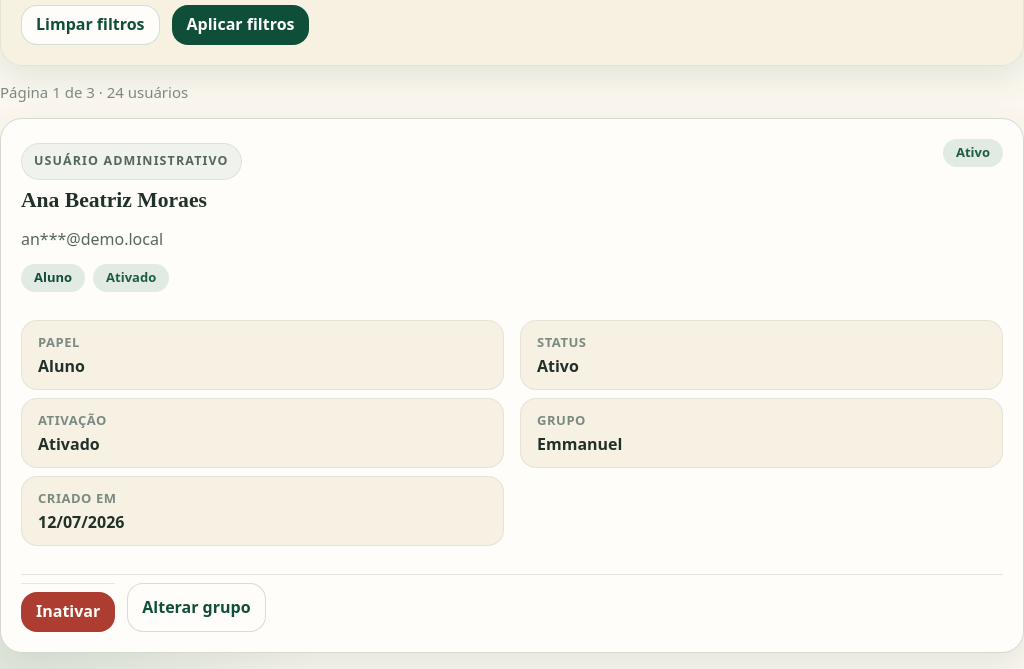
Test: AdminUsersPage status actions › não faz atualização otimista e sucesso recarrega a listagem
(page scrolled)
Expected: the heading "Ana Beatriz Moraes" is shown, [21, 188, 207, 212]
Click the button with aria-label "Inativar usuário Ana Beatriz Moraes". click: [68, 612]
box: [21, 592, 115, 632]
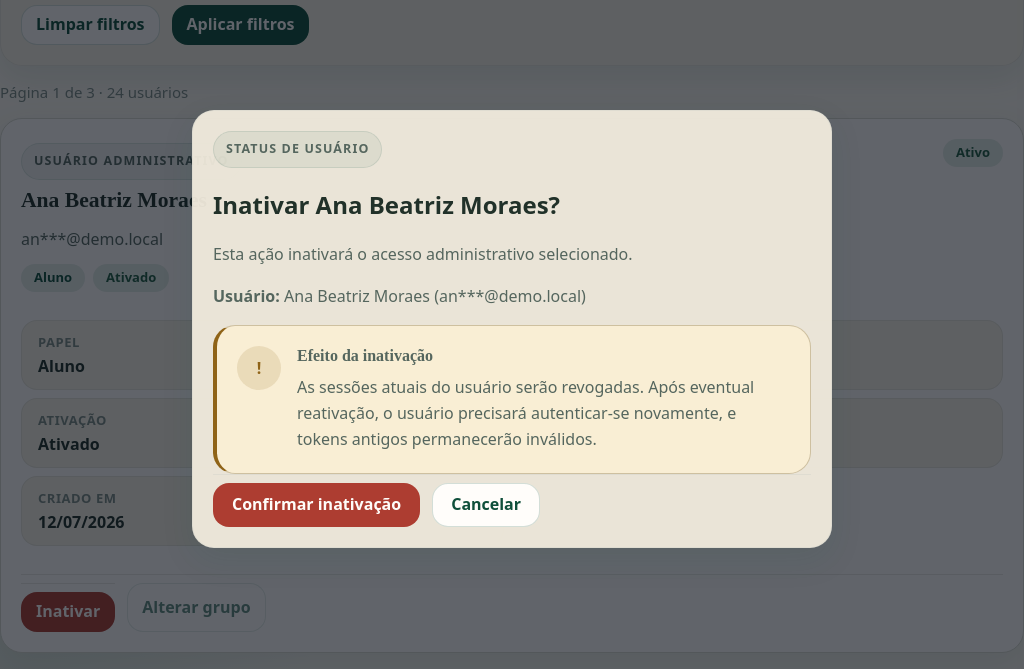
Click the button "Confirmar inativação". click: [317, 505]
box: [213, 483, 420, 527]
(page scrolled)
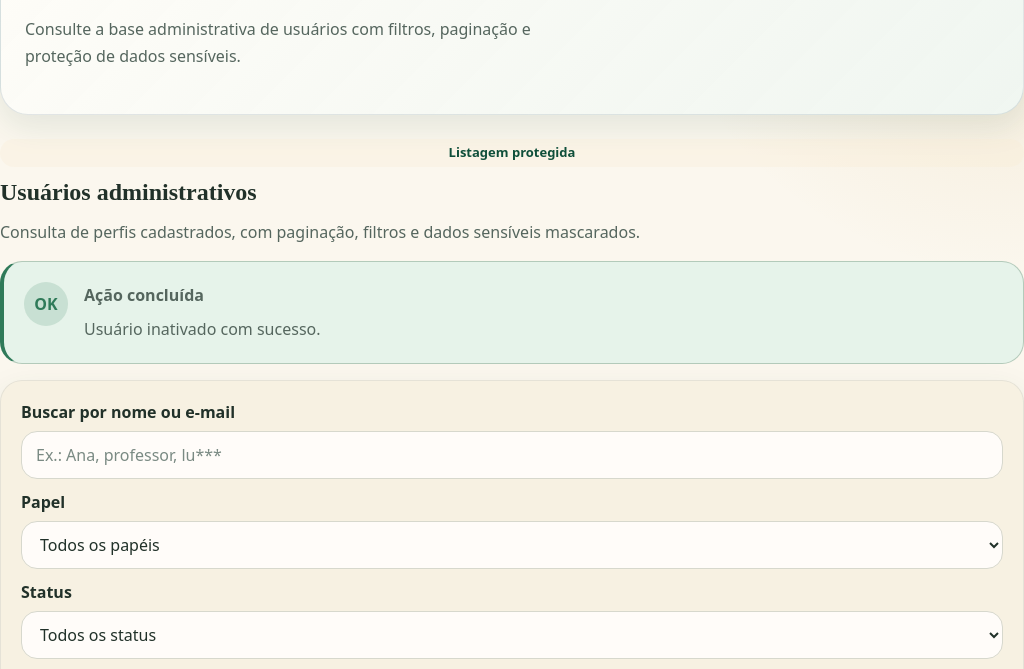
Result: the text "Usuário inativado com sucesso." is shown at [84, 318, 320, 340]
